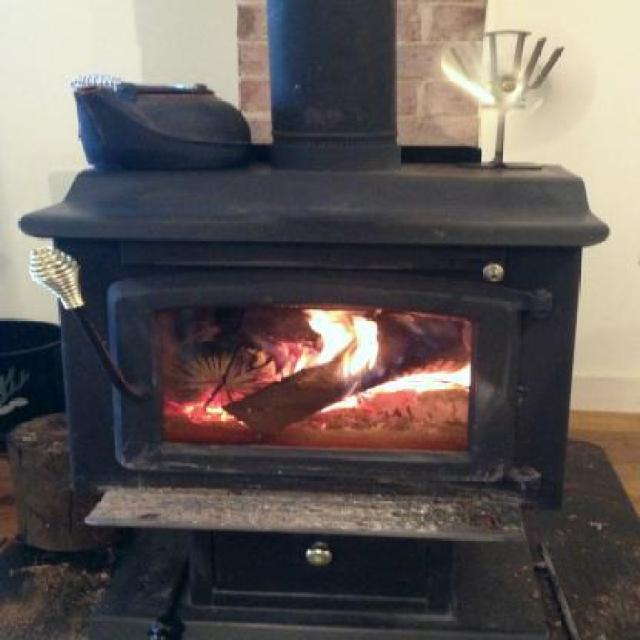Fire: (388, 368, 470, 392), (310, 308, 352, 350), (172, 396, 234, 422), (354, 312, 378, 374), (322, 398, 364, 414), (303, 351, 337, 366), (278, 366, 294, 380)
